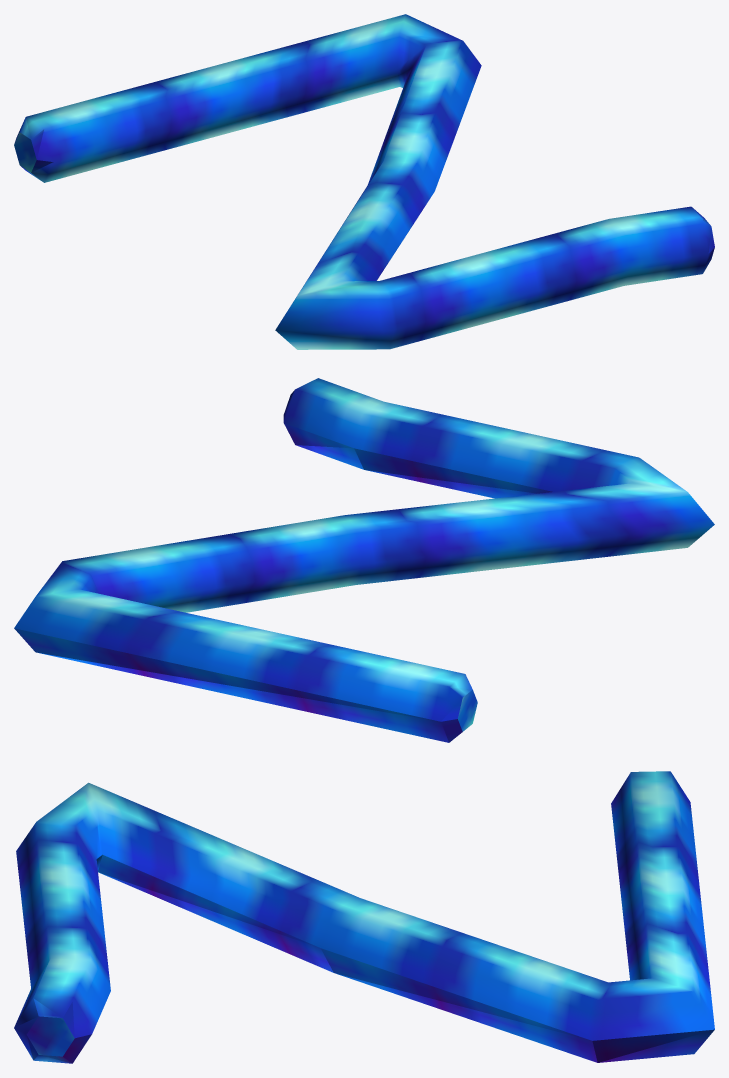
Rendered from furni_0200473.FBX.
The picture shows the model from 3 angles, top to bottom: view 1: azimuth 30°, elevation 25°; view 2: azimuth 150°, elevation 25°; view 3: azimuth 270°, elevation 25°; orthographic projection. The views are drawn at different scales.
Parts seen in each view (by area): view 1: furni_0200473; view 2: furni_0200473; view 3: furni_0200473.
Boxes of the visible parts, box(x1,y1,x2,y2) form: furni_0200473: box(14, 14, 714, 349); furni_0200473: box(14, 378, 714, 742); furni_0200473: box(14, 771, 714, 1063).
Bounding box in the file's own units: 42.86 × 5.11 × 52.
1 material, 1 textured.
